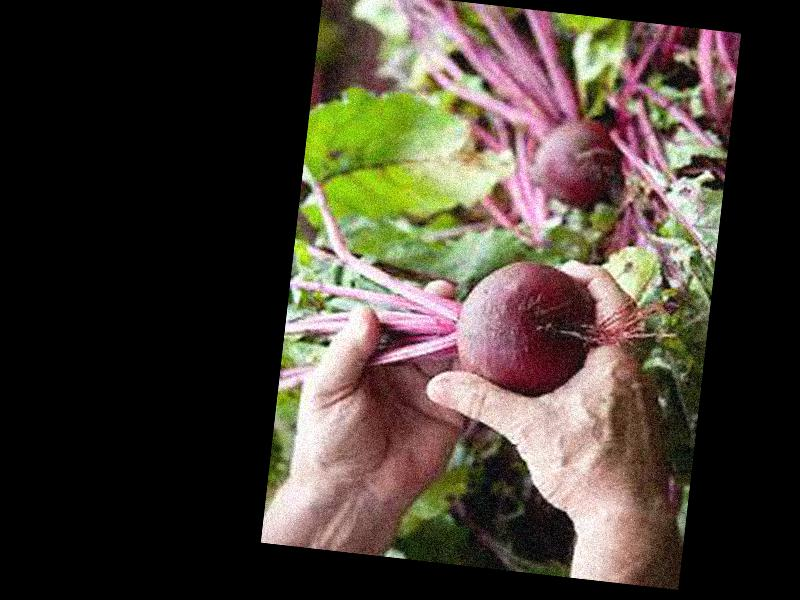Beet: (282, 162, 609, 405)
